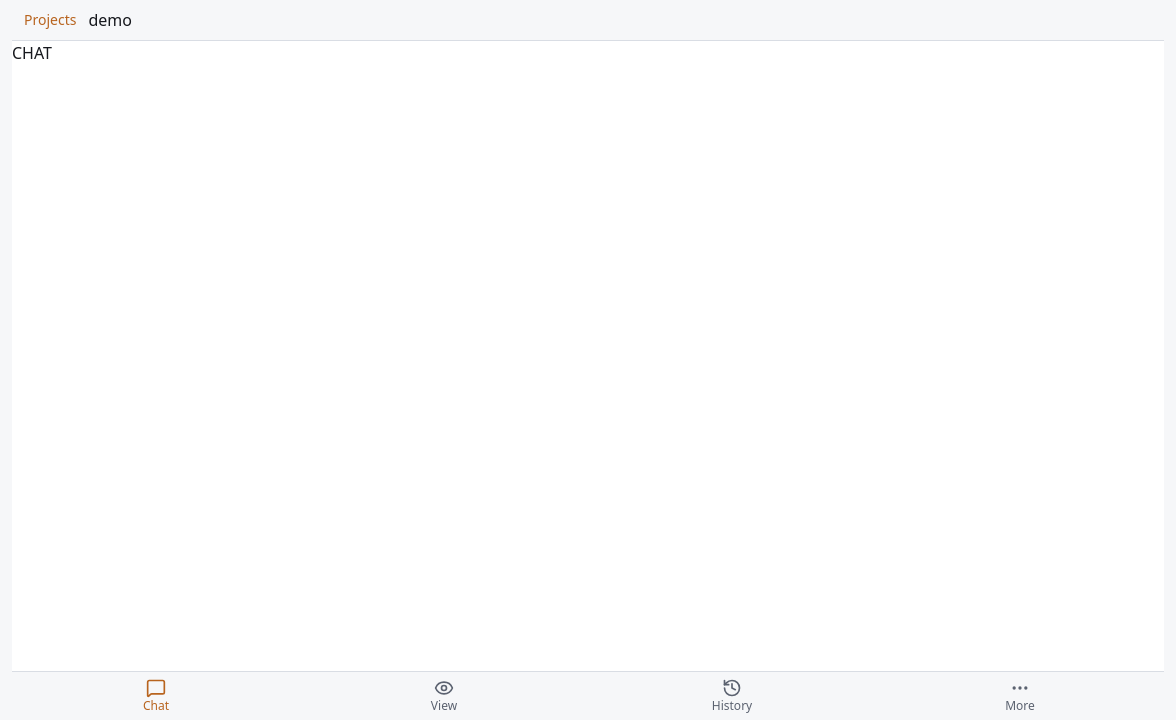
Test: ProjectLayout › iPhone: History tab without a registered history panel says so
Click the tab "History" at (732, 696), box [588,672,876,719]
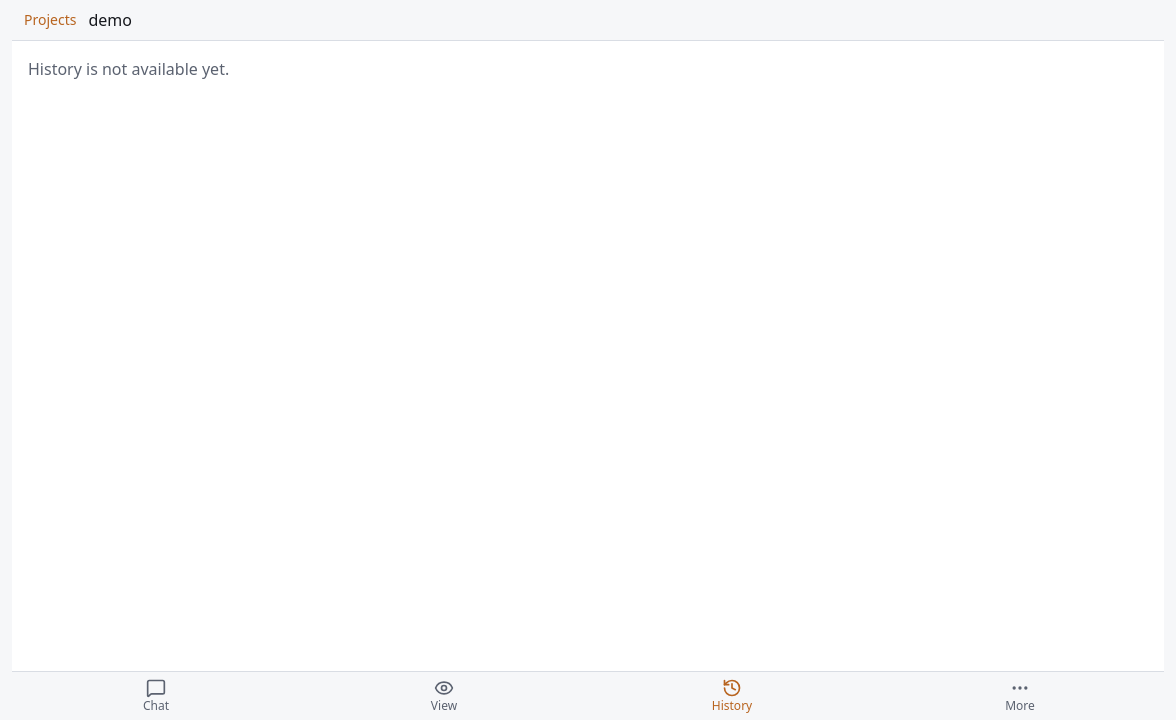
expect the text "History is not available yet." is shown: met, box [28,58,229,80]
